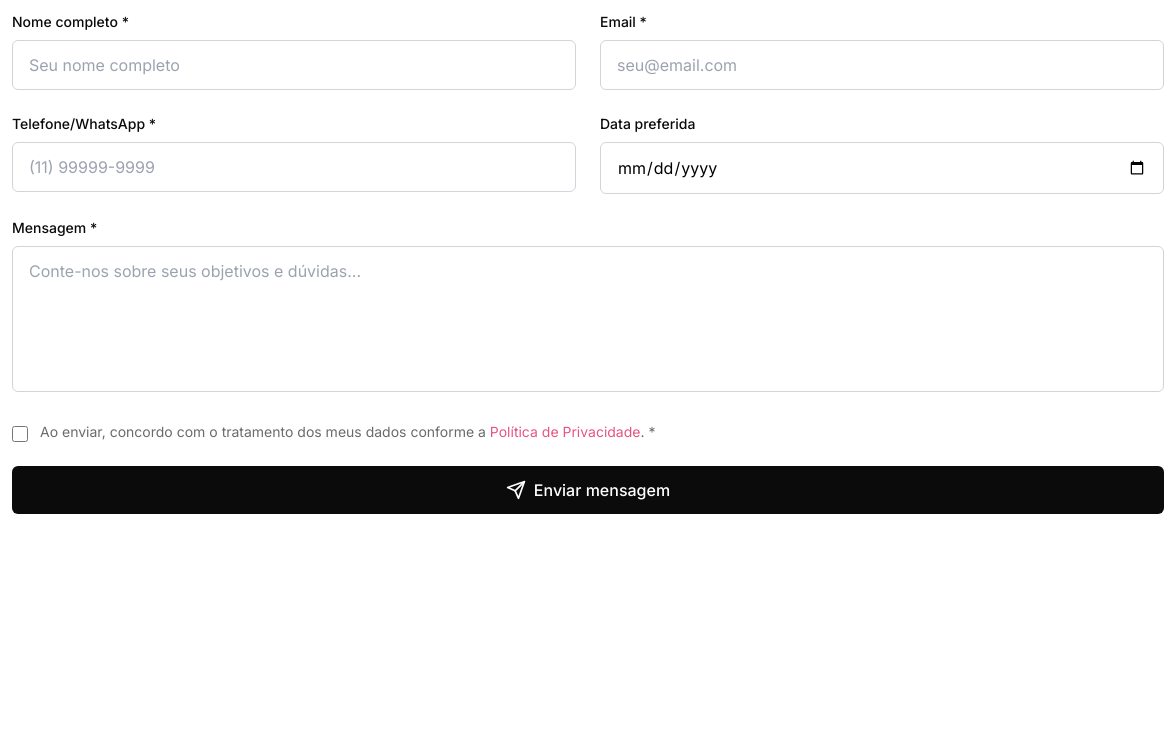
ContactForm › shows validation errors for empty required fields
Click the button "Enviar mensagem": coordinates (588, 490) [12, 466, 1164, 514]
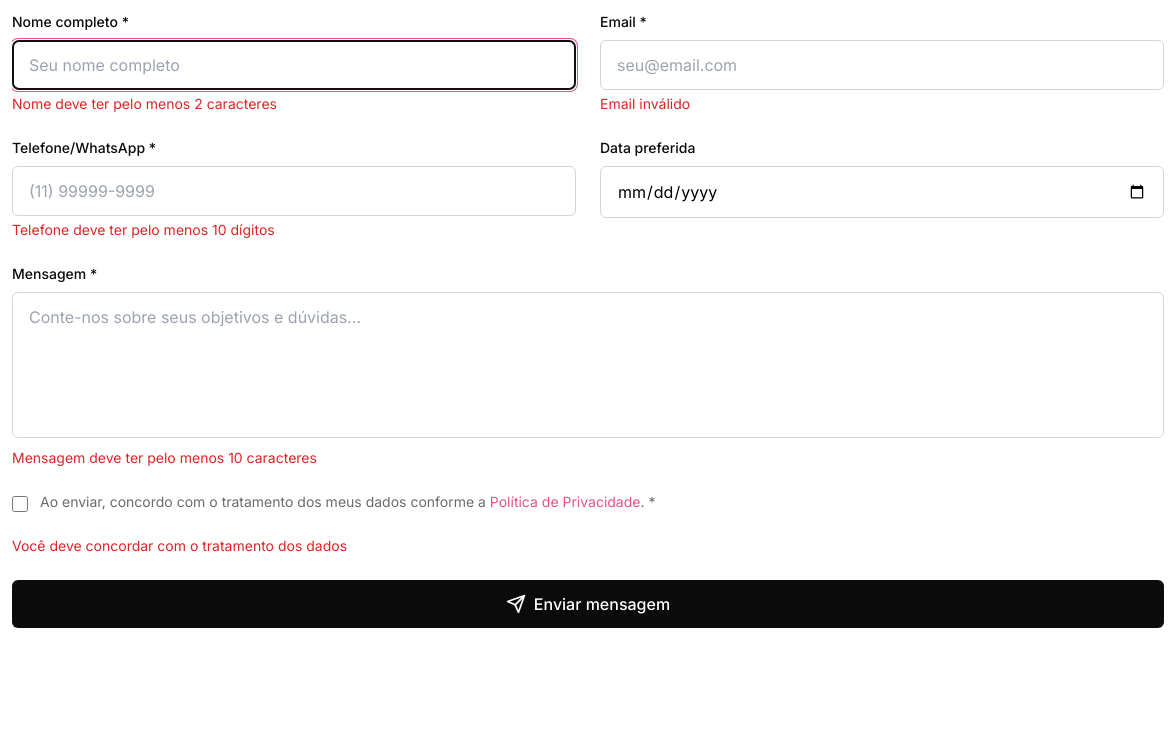
Check: the text "Nome deve ter pelo menos 2 caracteres" is shown, box [12, 95, 277, 112]
Check: the text "Email inválido" is shown, box [600, 95, 690, 112]
Check: the text "Telefone deve ter pelo menos 10 dígitos" is shown, box [12, 221, 275, 238]
